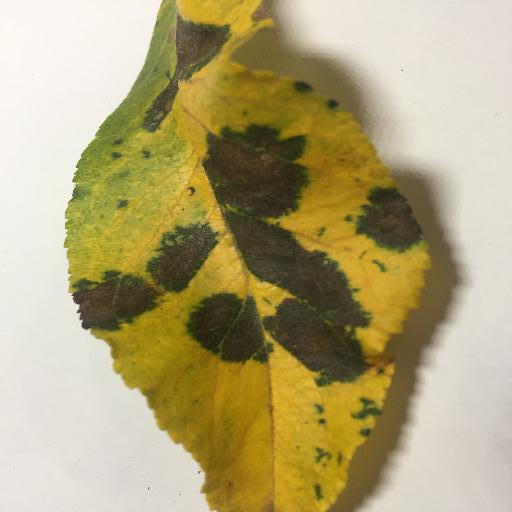Brown_Spot: (236, 228, 371, 303), (143, 26, 207, 128), (202, 142, 294, 211), (273, 309, 357, 376), (188, 308, 264, 359), (80, 277, 160, 324), (355, 197, 426, 243), (151, 236, 206, 281)
